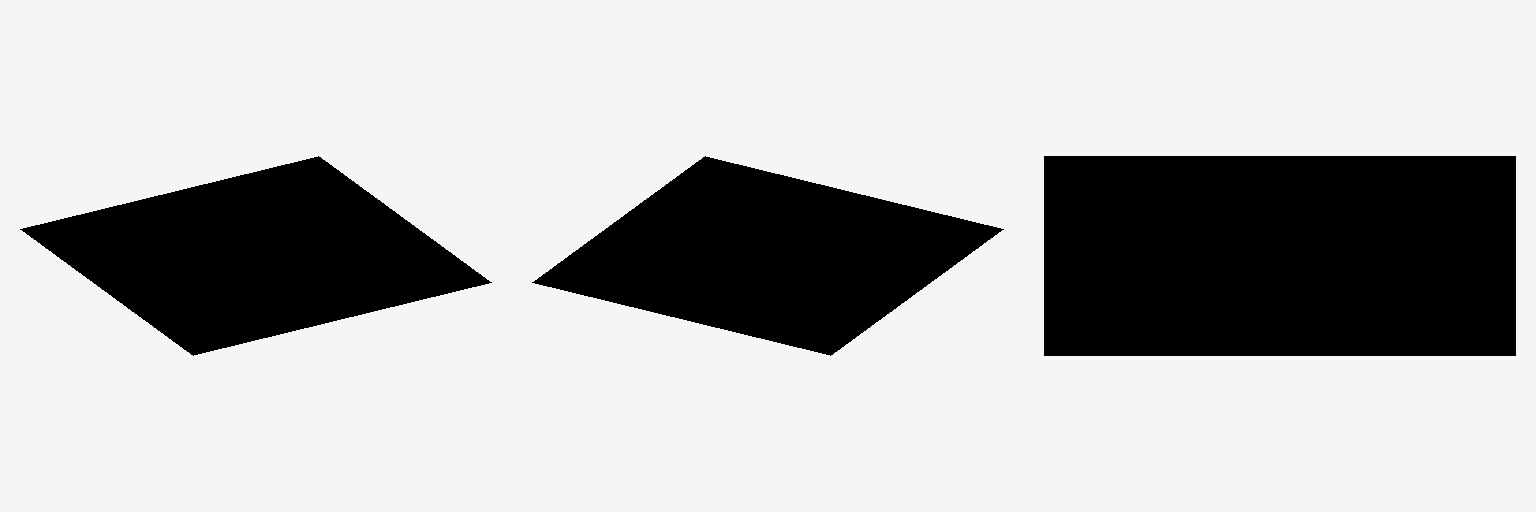
robot.urdf — workspace.urdf:
<?xml version="0.0" ?>
<robot name="workspace.urdf">
  <link name="baseLink">
    <inertial>
      <origin rpy="0 0 0" xyz="0 0 0"/>
      <mass value="0"/>
      <inertia ixx="1" ixy="0" ixz="0" iyy="1" iyz="0" izz="1"/>
    </inertial>
    <visual>
      <origin rpy="0 0 0" xyz="0 0 0"/>
      <geometry>
        <!-- <mesh filename="plane.obj" scale="0.015 0.015 1"/> -->
        <box size="0.9 0.9 0.001"/>
      </geometry>
      <material name="DarkGrey">
        <!-- <color rgba="0.2 0.2 0.2 1"/> -->
        <color rgba="0. 0. 0. 1"/>
      </material>
    </visual>
    <!-- <collision>
      <origin rpy="0 0 0" xyz="0 0 -0.005"/>
      <geometry>
        <box size="2.0 3.0 0.01"/>
      </geometry>
    </collision> -->
  </link>
</robot>

--- Facts derived from the render (not from the file) ---
The picture shows the robot from 3 angles, left to right: view 1: azimuth 30°, elevation 25°; view 2: azimuth 150°, elevation 25°; view 3: azimuth 270°, elevation 25°; orthographic projection.
Model workspace.urdf with 1 links and 0 joints (none), rooted at baseLink, posed every joint at zero.
Links seen in each view (by area): view 1: baseLink; view 2: baseLink; view 3: baseLink.
Boxes of the visible links, bbox=[...] form: baseLink: bbox=[20, 156, 491, 355]; baseLink: bbox=[532, 156, 1003, 355]; baseLink: bbox=[1044, 156, 1515, 355].
Bounding box of the posed robot: 0.9 × 0.9 × 0.001 m (x, y, z).
Geometry: primitives only (box / cylinder / sphere), no mesh files.
